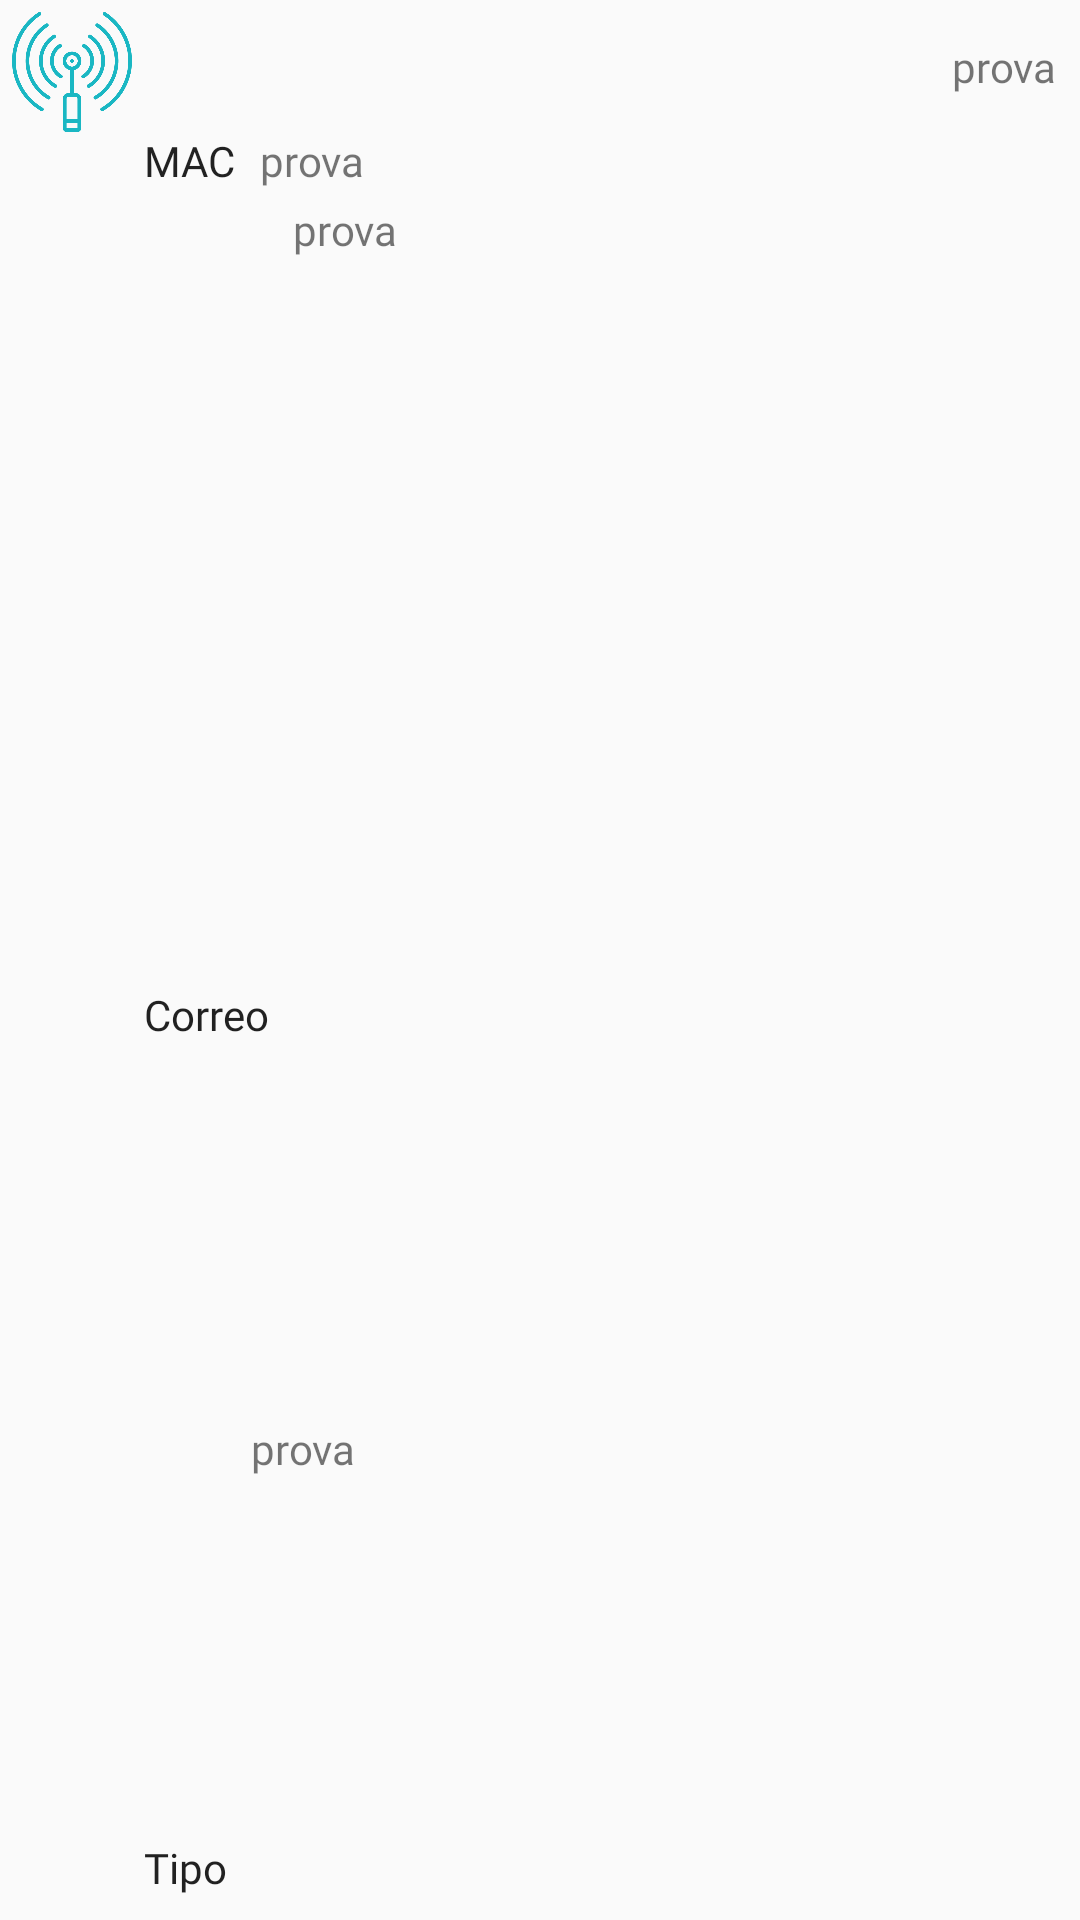

Icons on this 1080px x 1920px Android screen, each with the point to tap as [x,y]:
sensor: [72,72]
